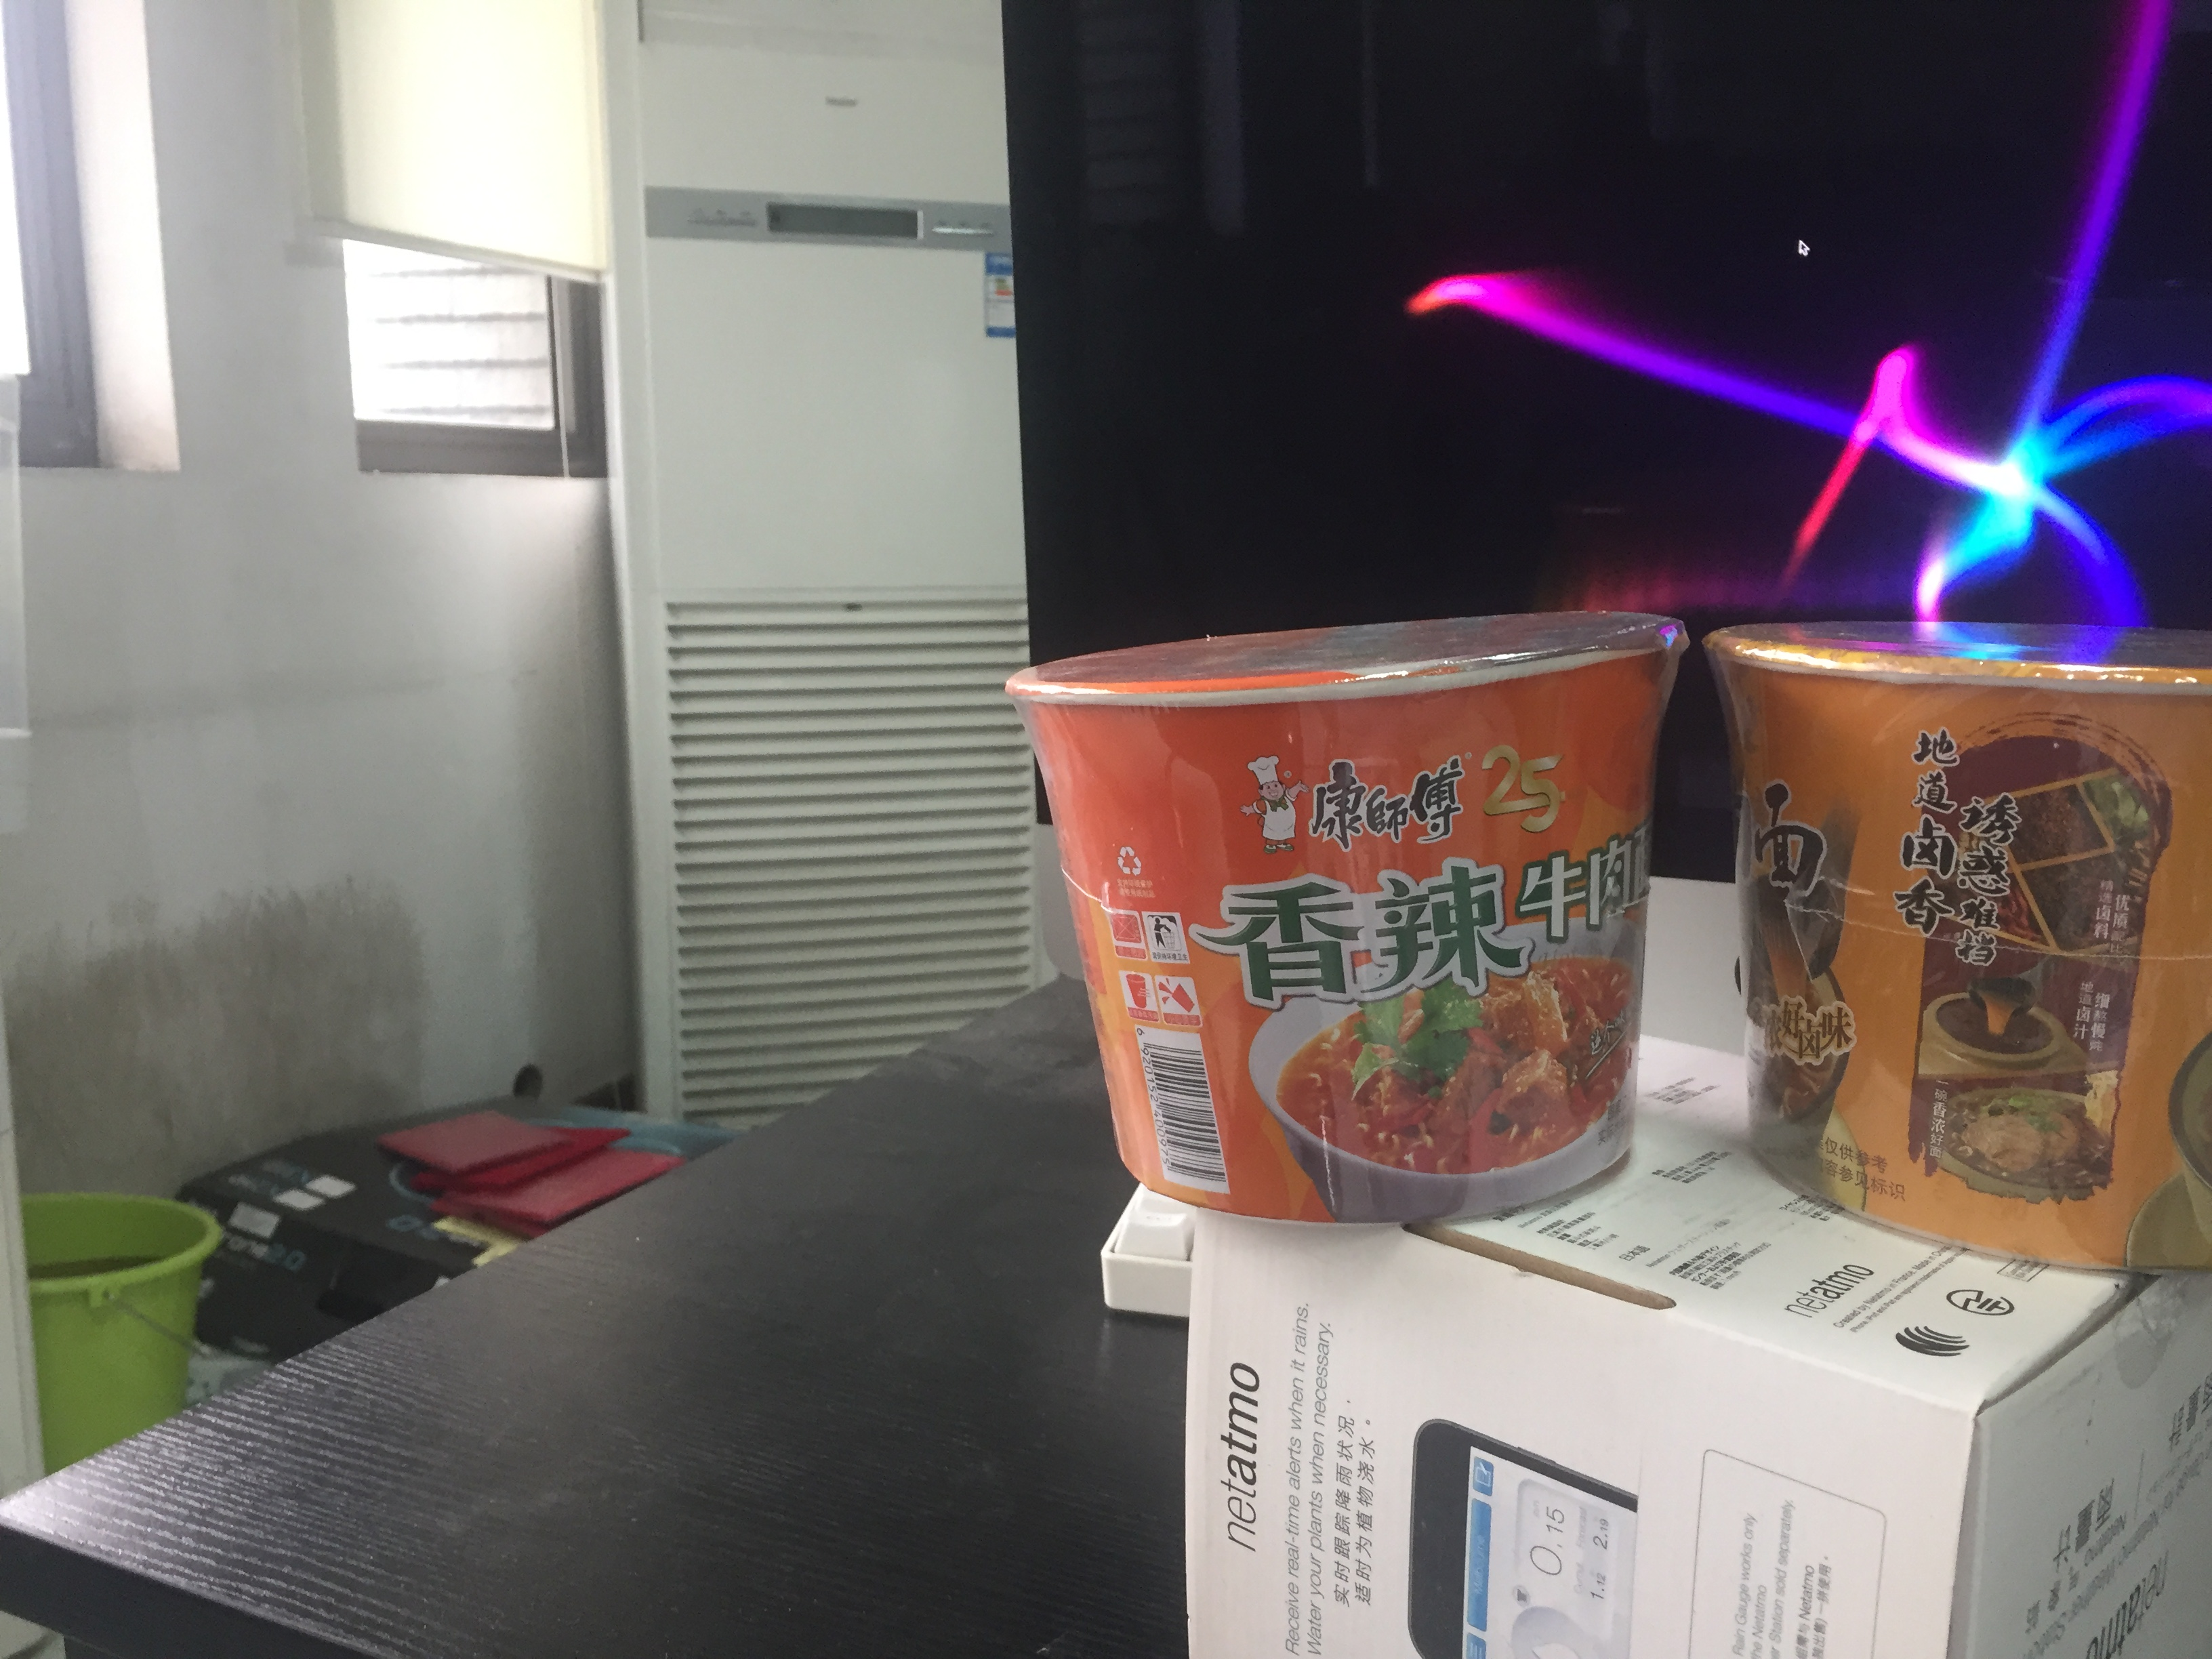luxiang: (1696, 620, 2212, 1284)
xiangla: (1003, 606, 1691, 1227)
